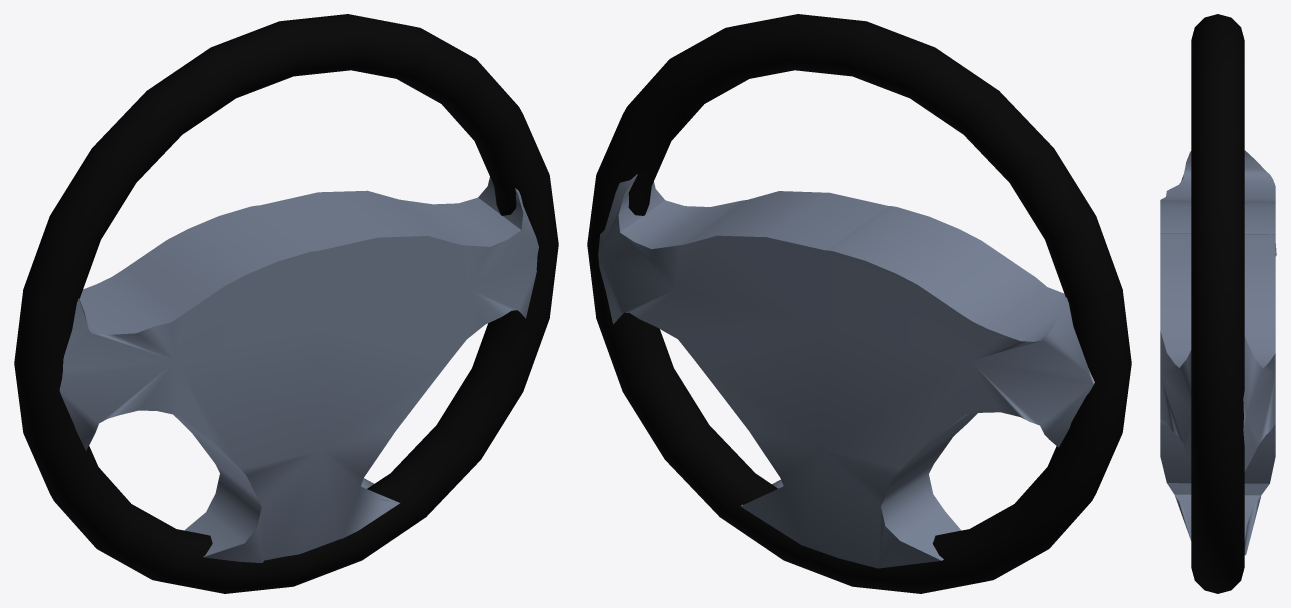
Rendered from steering wheel.fbx.
3 views of the same model, side by side, from view 1: azimuth 30°, elevation 25°; view 2: azimuth 150°, elevation 25°; view 3: azimuth 270°, elevation 25° (orthographic). The views are drawn at different scales.
Visible parts, largest first — view 1: Steering wheel; view 2: Steering wheel; view 3: Steering wheel.
Boxes of the visible parts, <box> form: Steering wheel: <box>14,14,558,593</box>; Steering wheel: <box>587,14,1131,593</box>; Steering wheel: <box>1160,14,1276,593</box>.
Bounding box in the file's own units: 18.15 × 18.15 × 3.62.
